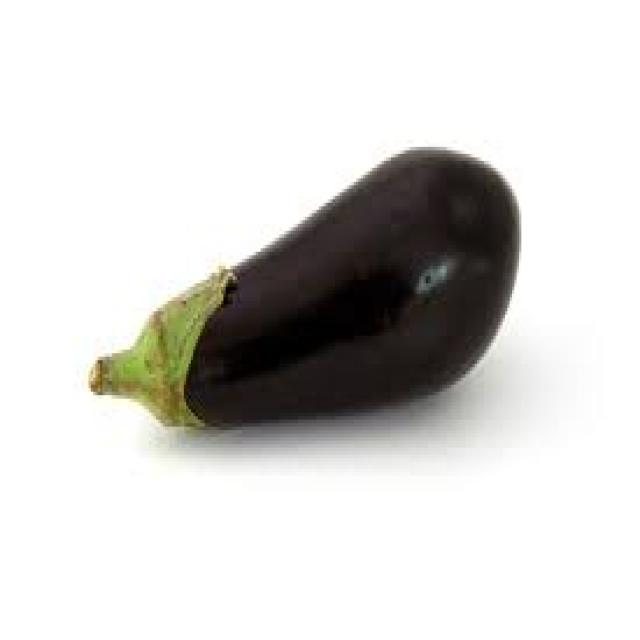aubergine: (74, 140, 530, 430)
